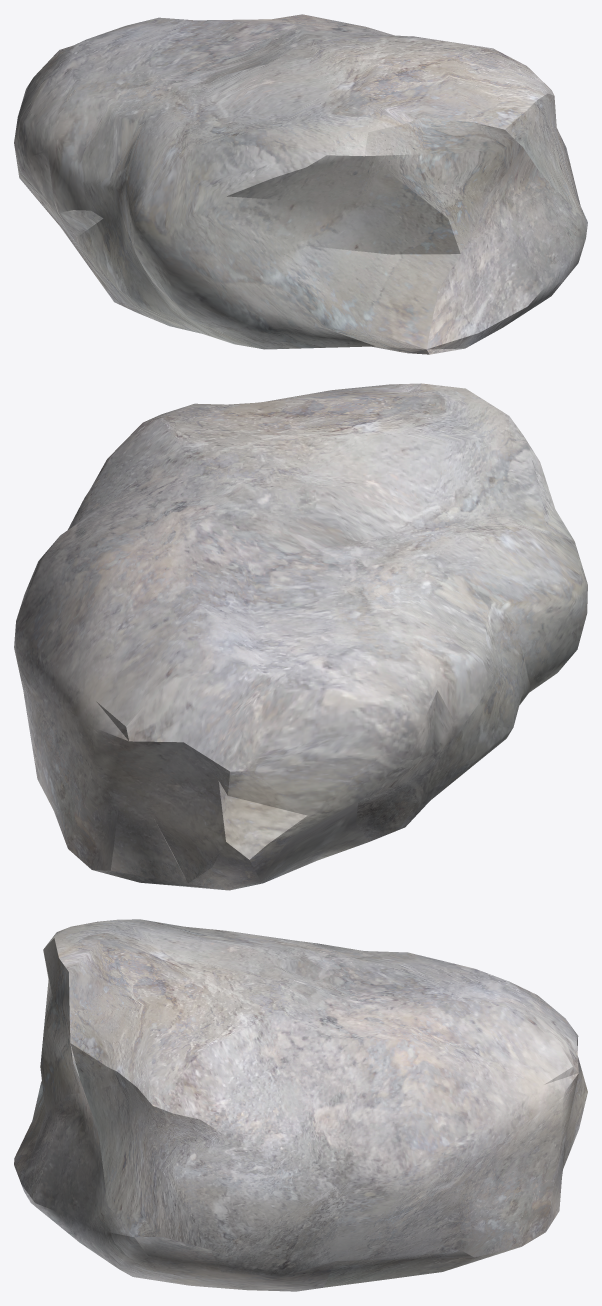
The model's file is rock_00C_lp_2k.fbx.
3 renders of one model, top to bottom at view 1: azimuth 30°, elevation 25°; view 2: azimuth 150°, elevation 25°; view 3: azimuth 270°, elevation 25°, orthographic. The views are drawn at different scales.
Visible parts, largest first — view 1: rock_00C_lp_2k; view 2: rock_00C_lp_2k; view 3: rock_00C_lp_2k.
Part boxes in pixels (x1=…): rock_00C_lp_2k: x1=14, y1=14, x2=587, y2=354; rock_00C_lp_2k: x1=14, y1=383, x2=587, y2=890; rock_00C_lp_2k: x1=14, y1=919, x2=587, y2=1291.
Size of the model in its own units: 222 by 143 by 261.
